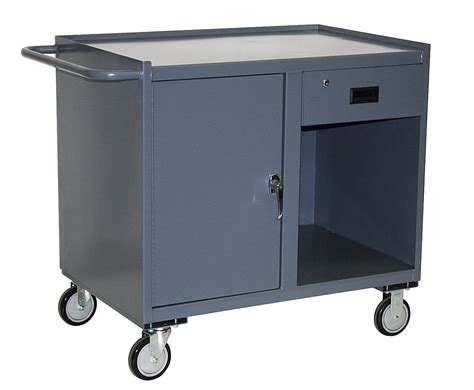Carts: (20, 26, 431, 381)
